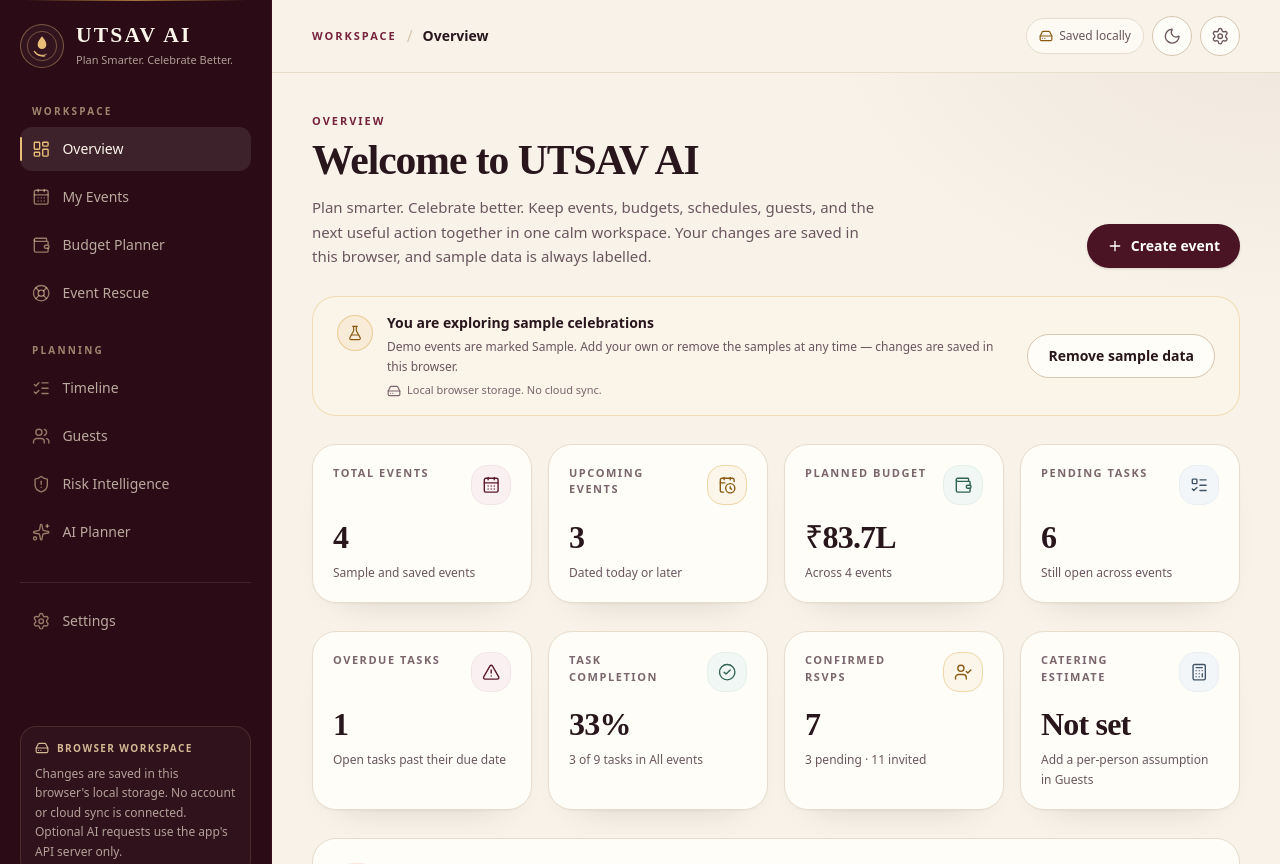
Scenario: App › navigates to routed pages and keeps the active item marked
Click the link "My Events".
click(81, 197)  # box [32,187,129,206]
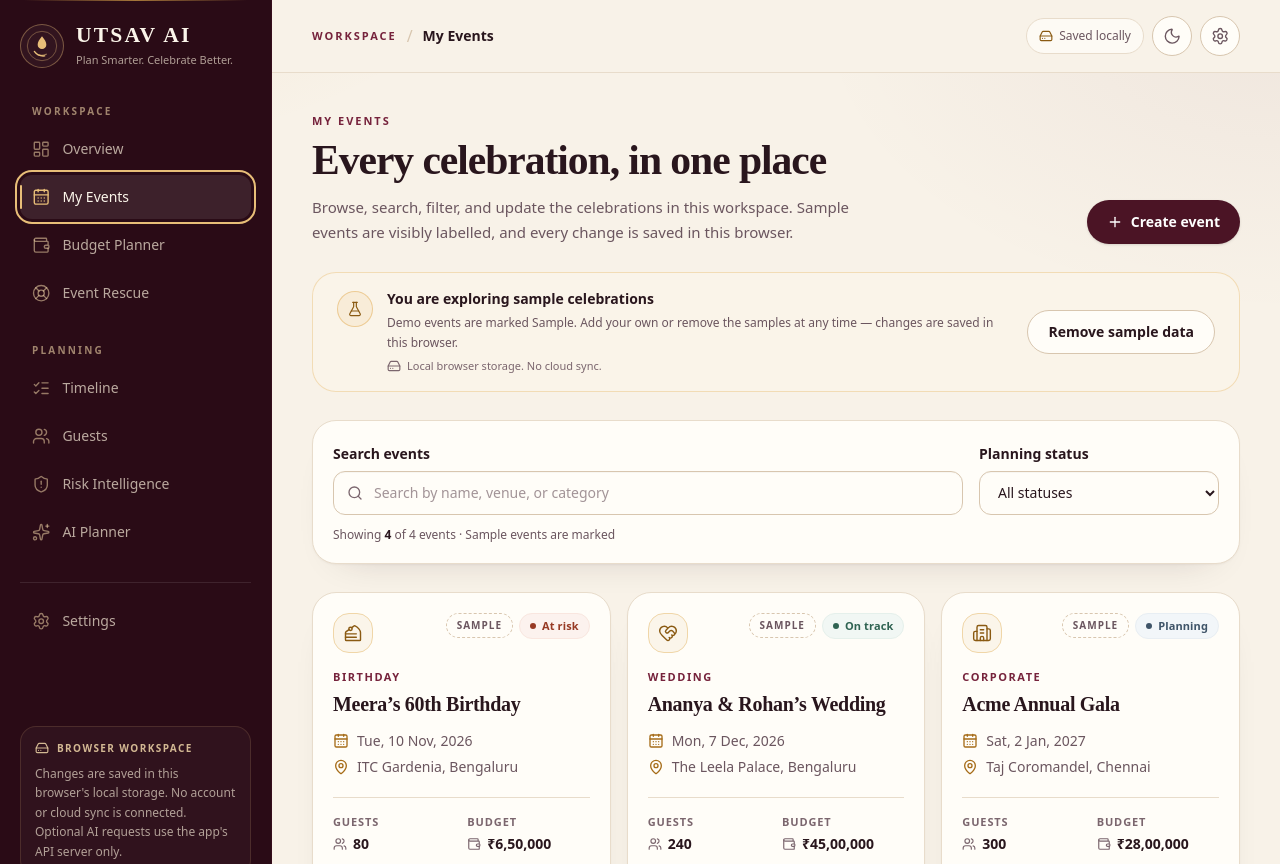
Expected: the heading "Every celebration, in one place" is shown, [312,138,888,183]
Click the link "Budget Planner".
click(98, 245)  # box [32,235,165,254]
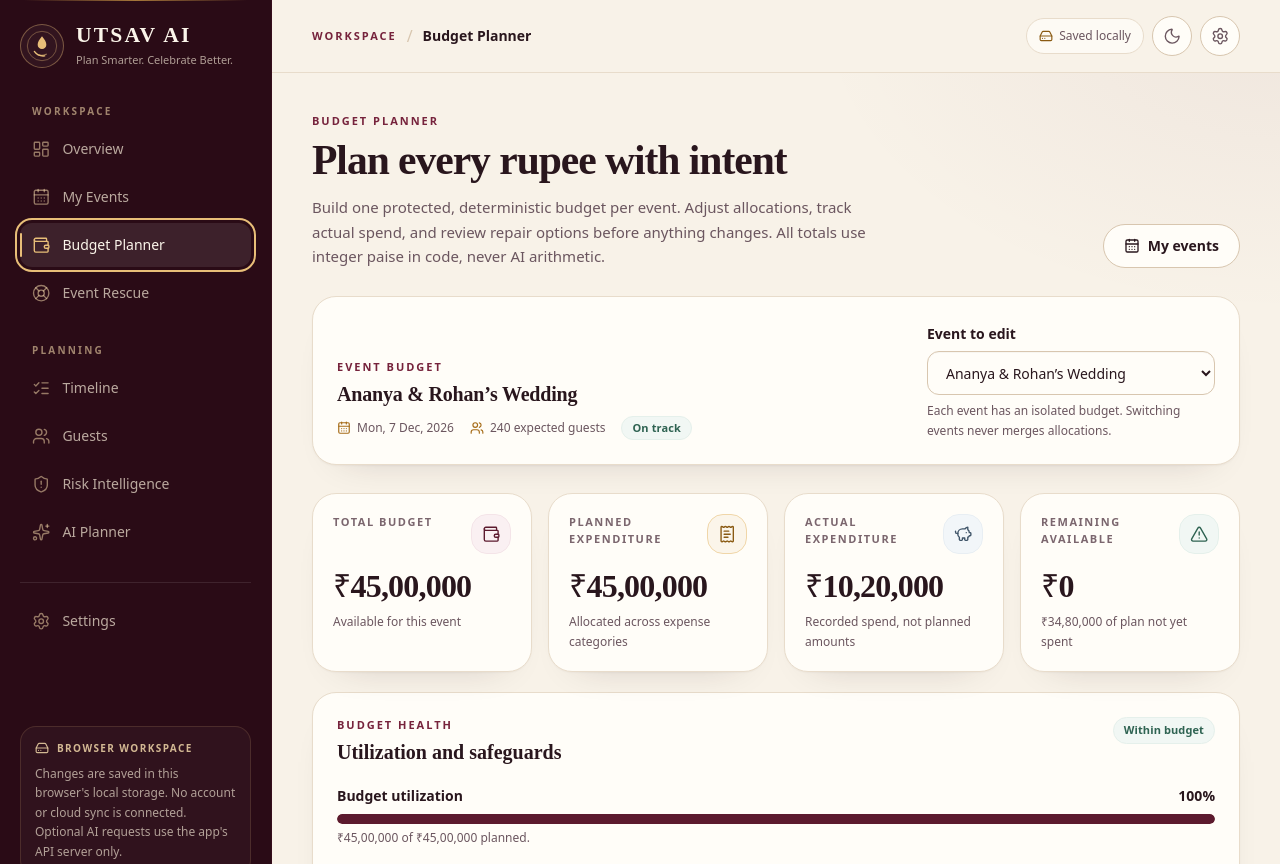
Expected: the heading "Plan every rupee with intent" is shown, [312,136,787,182]
Expected: the dropdown labelled "Event to edit" shows "Ananya & Rohan’s Wedding", [927,351,1215,395]
